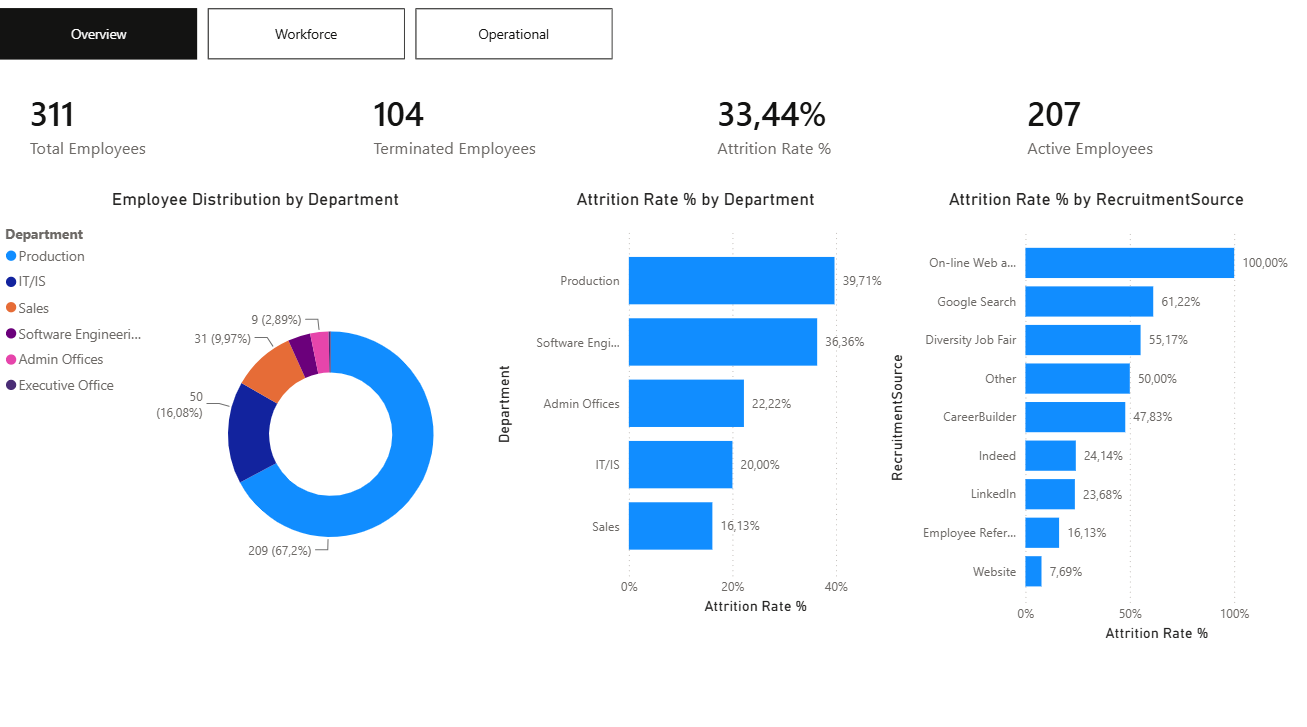

Layout of this report page (visuals, bound fields, positions):
{"tool":"powerbi","page":{"name":"Overview","canvas":[1280,720],"ordinal":0},"visuals":[{"type":"cardVisual","fields":{"Data":["_Measures.Total Employees"]},"box":[0,80,300,100],"z":0},{"type":"cardVisual","fields":{"Data":["_Measures.Terminated Employees"]},"box":[336,80,300,100],"z":1000},{"type":"cardVisual","fields":{"Data":["_Measures.Attrition Rate %"]},"box":[672,80,300,100],"z":2000},{"type":"cardVisual","fields":{"Data":["_Measures.Active Employees"]},"box":[976,80,300,100],"z":3000},{"type":"donutChart","title":"Employee Distribution by Department","fields":{"Category":["HRDataset_v14.Department"],"Y":["CountNonNull(HRDataset_v14.EmpID)"]},"box":[0,192,500,451],"z":4000},{"type":"clusteredBarChart","fields":{"Category":["HRDataset_v14.Department"],"Y":["_Measures.Attrition Rate %"]},"box":[480,192,400,422],"z":5000},{"type":"clusteredBarChart","fields":{"Y":["_Measures.Attrition Rate %"],"Category":["HRDataset_v14.RecruitmentSource"]},"box":[864,192,416,448],"z":6000},{"type":"pageNavigator","box":[0,0,600,50],"z":7000}]}

Visuals, with their boxes in screenshot pixels (x1, y1, x2, y2), scaled from the page's 1280x720 canvas onto the 1307x727 screenshot:
cardVisual - _Measures.Total Employees: (0,81,306,182)
cardVisual - _Measures.Terminated Employees: (343,81,649,182)
cardVisual - _Measures.Attrition Rate %: (686,81,993,182)
cardVisual - _Measures.Active Employees: (997,81,1303,182)
"Employee Distribution by Department" donutChart: (0,194,511,649)
clusteredBarChart - HRDataset_v14.Department x _Measures.Attrition Rate %: (490,194,899,620)
clusteredBarChart - _Measures.Attrition Rate % x HRDataset_v14.RecruitmentSource: (882,194,1306,646)
pageNavigator: (0,0,613,50)
